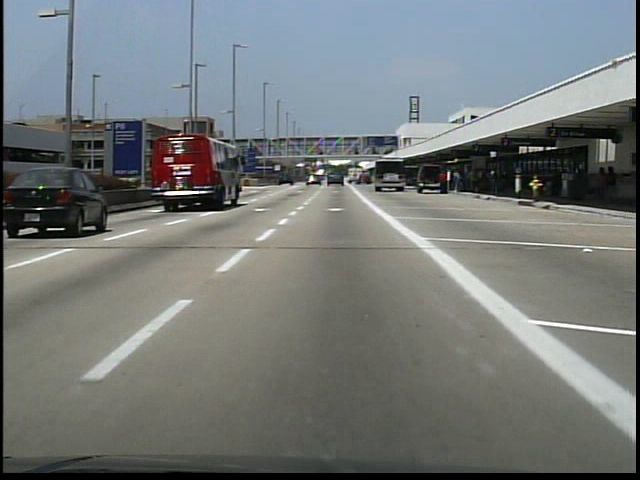person: (438, 168, 452, 199)
